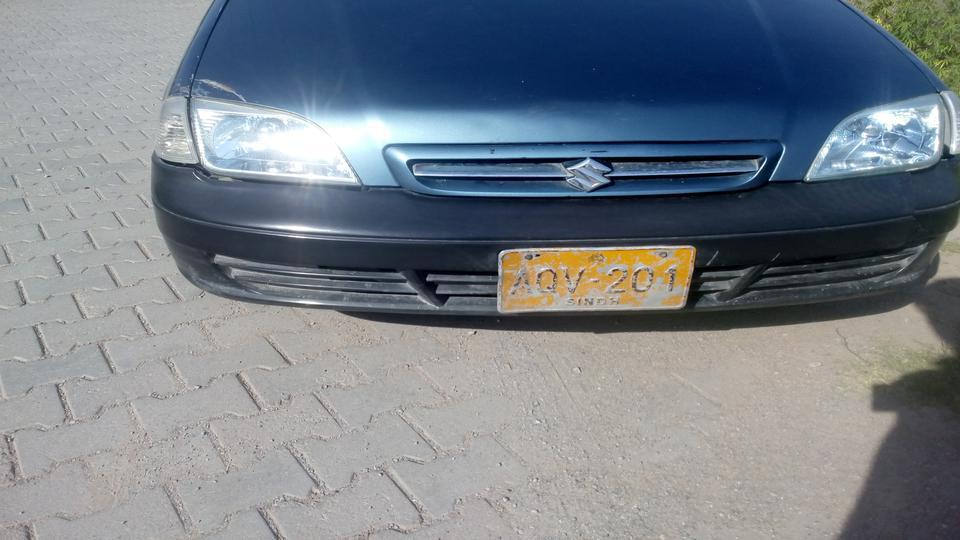NumberPlate: (496, 246, 694, 318)
